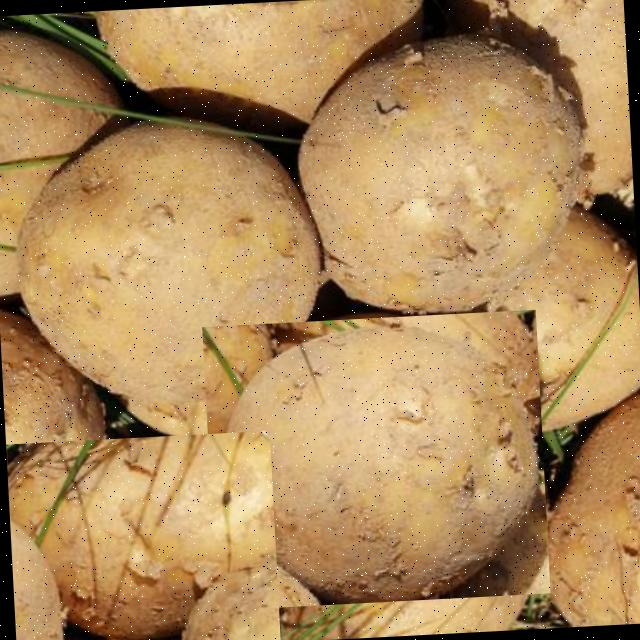Potato: (202, 310, 550, 610), (292, 16, 606, 320), (14, 126, 328, 422), (6, 430, 281, 640)
